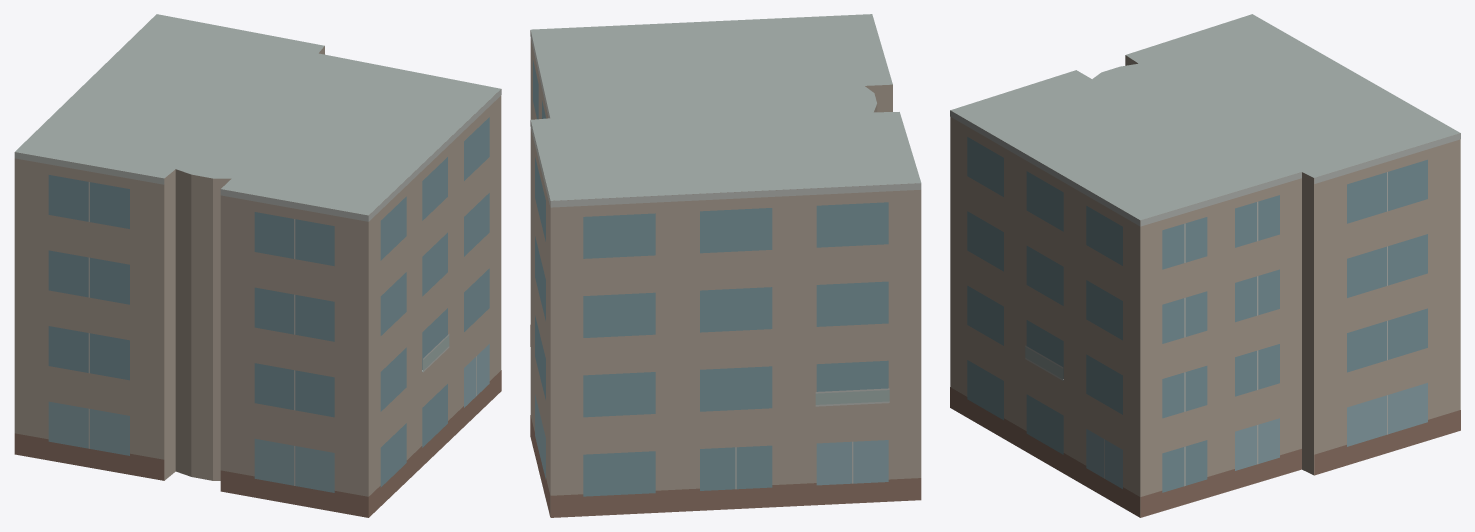
Rendered from survey-upis-32958917.glb.
The picture shows the model from 3 angles, left to right: view 1: azimuth 30°, elevation 25°; view 2: azimuth 150°, elevation 25°; view 3: azimuth 270°, elevation 25°; orthographic projection. The views are drawn at different scales.
Visible parts, largest first — view 1: survey-upis-32958917.tmp; view 2: survey-upis-32958917.tmp; view 3: survey-upis-32958917.tmp.
Part boxes in pixels (x1,y1,x2,y2): survey-upis-32958917.tmp: (14, 14, 501, 517); survey-upis-32958917.tmp: (530, 14, 921, 517); survey-upis-32958917.tmp: (950, 14, 1460, 517).
Bounding box in the file's own units: 17.26 × 11.6 × 18.05.
